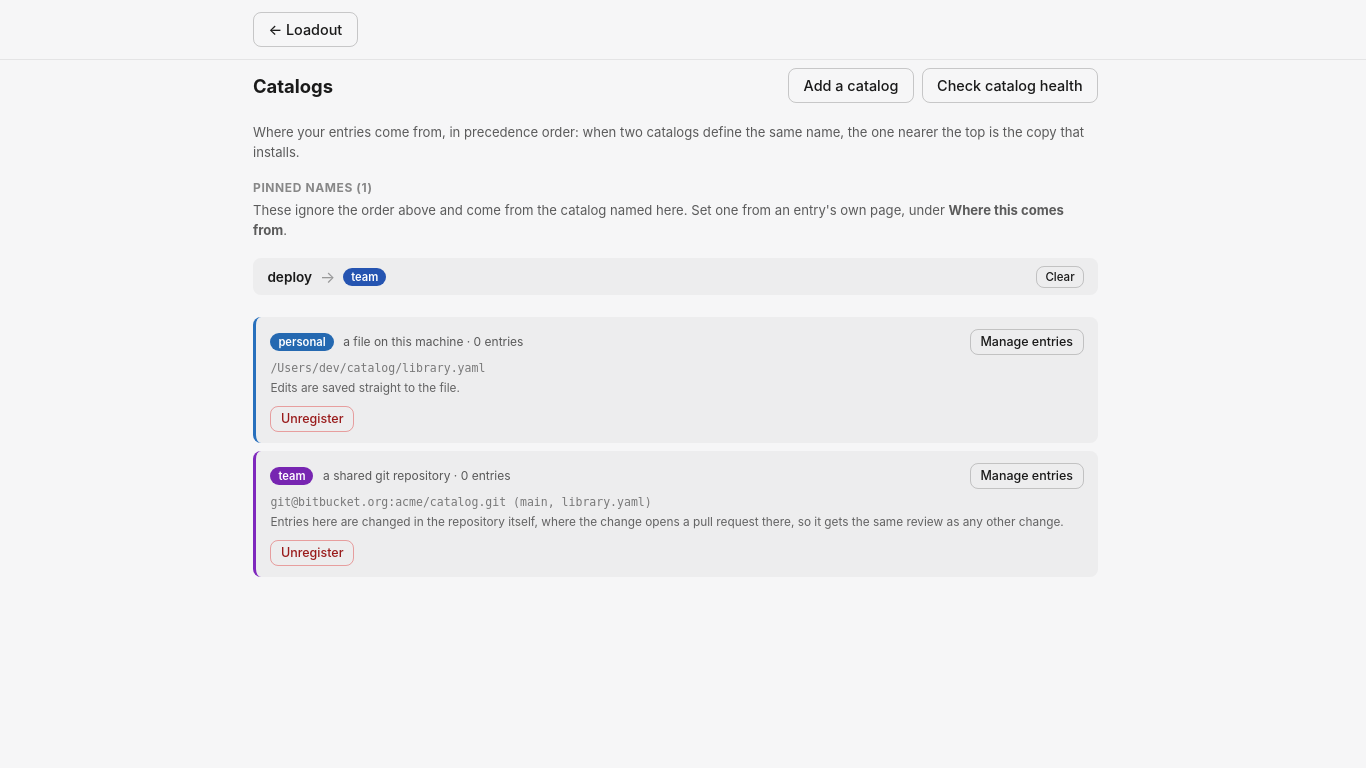
Test: UI-43: unregistering › says plainly when nothing was attributable to it
Step 1. Click the button with class "catalogs__unregister" below "a shared git repository · 0 entries" → (312, 553), box [270,540,354,566]
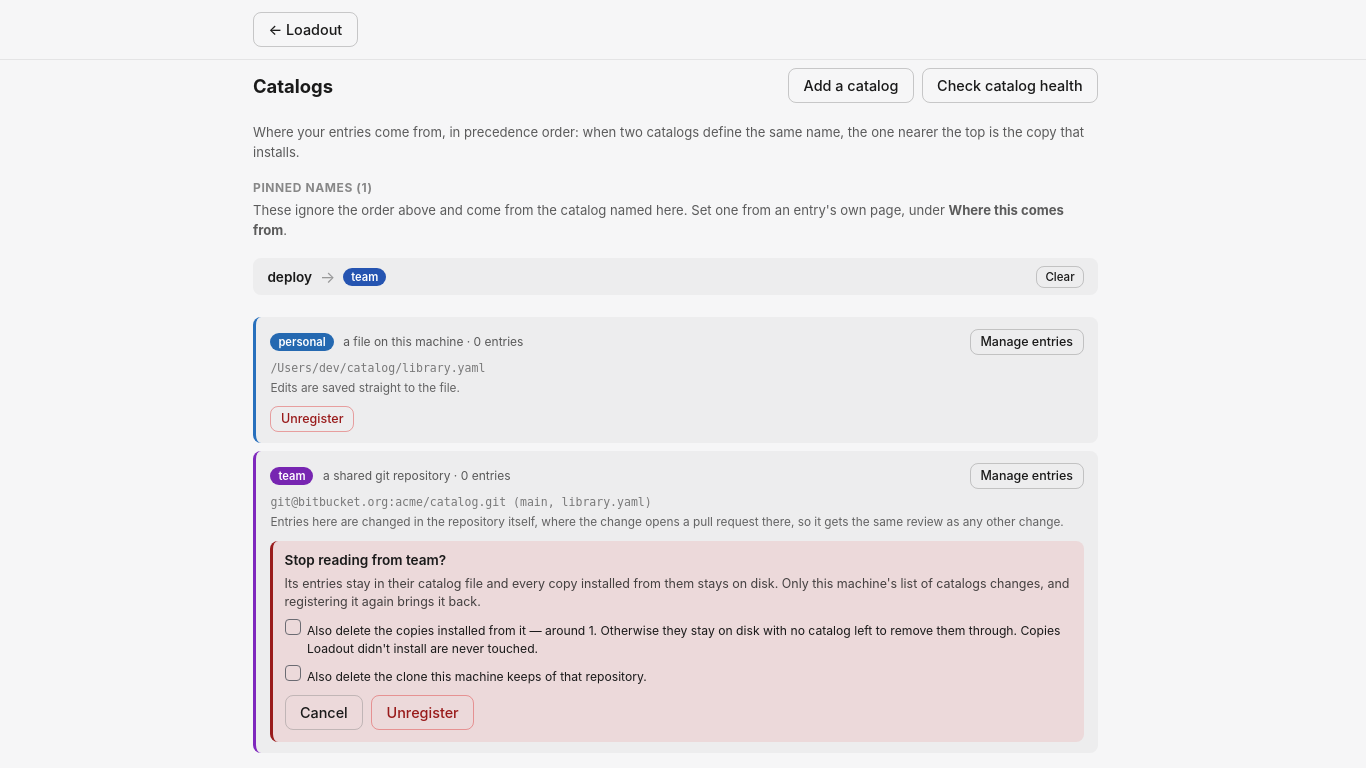
Step 2. Click the 1st checkbox → (293, 627), box [285,619,301,635]
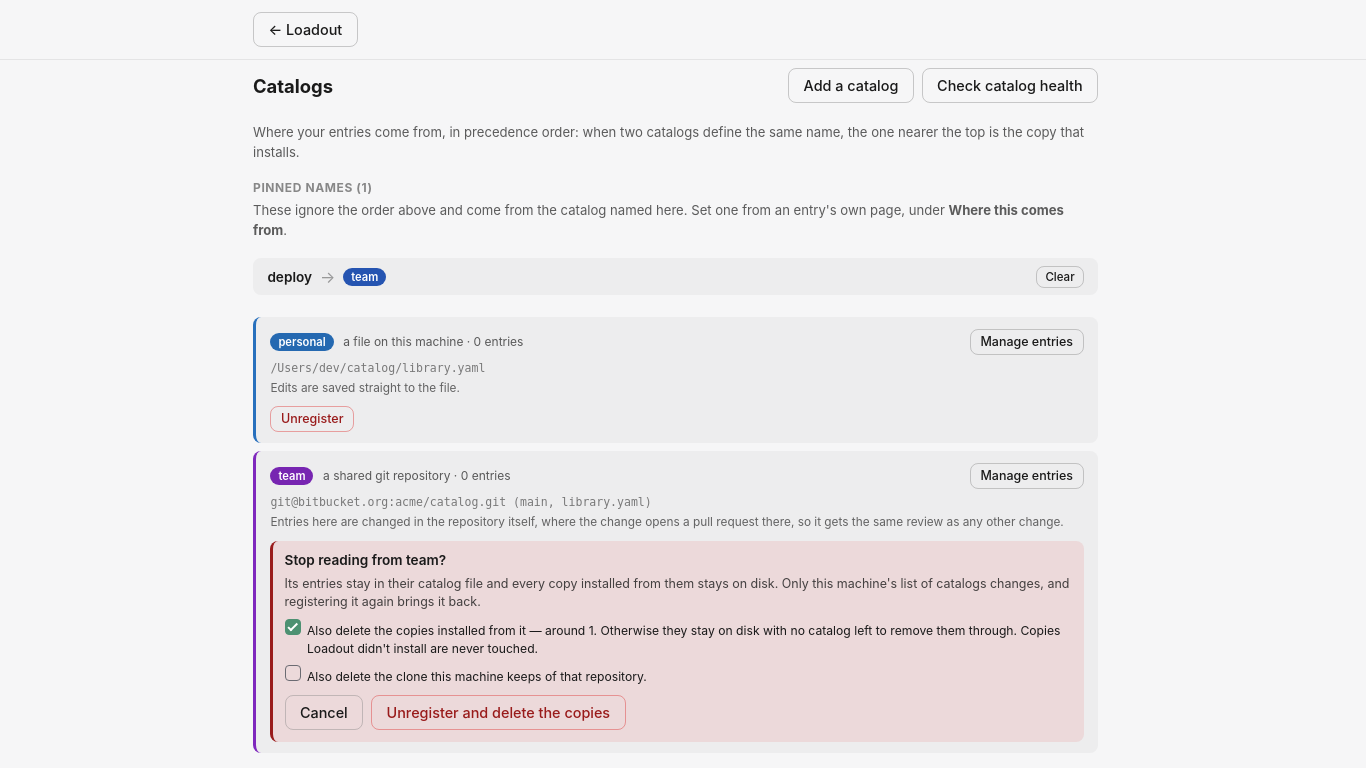
Step 3. Click the button "Unregister and delete the copies" → (498, 713), box [371,695,626,730]
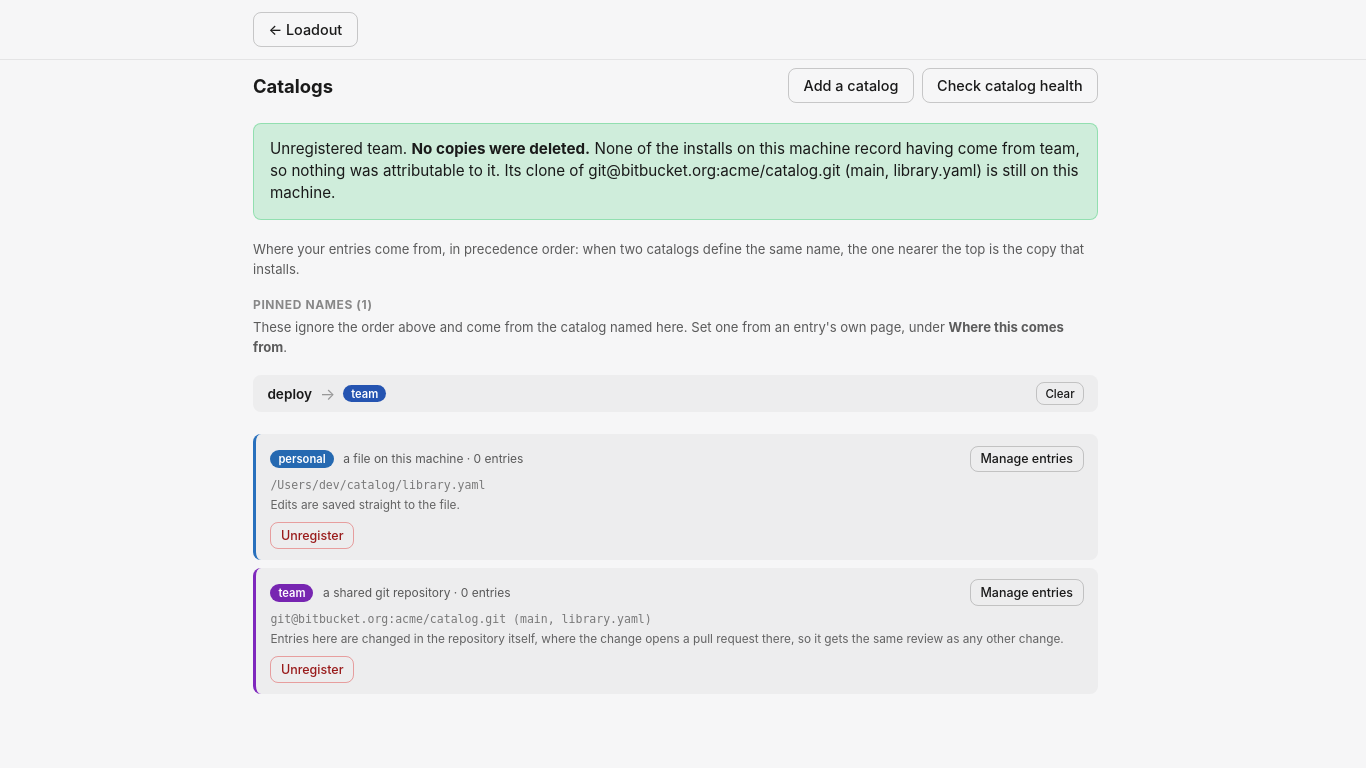
Now the message with class "status-banner--success" shows "No copies were deleted.", box [412,139,590,158]
